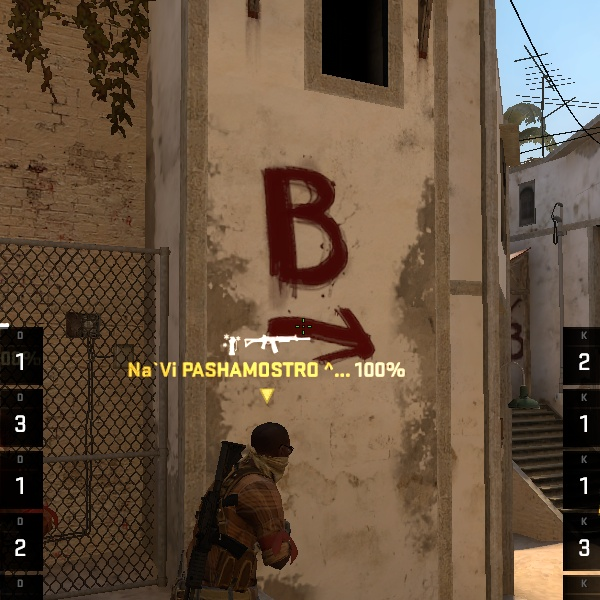t_body: (189, 411, 313, 584)
t_head: (235, 414, 306, 483)
